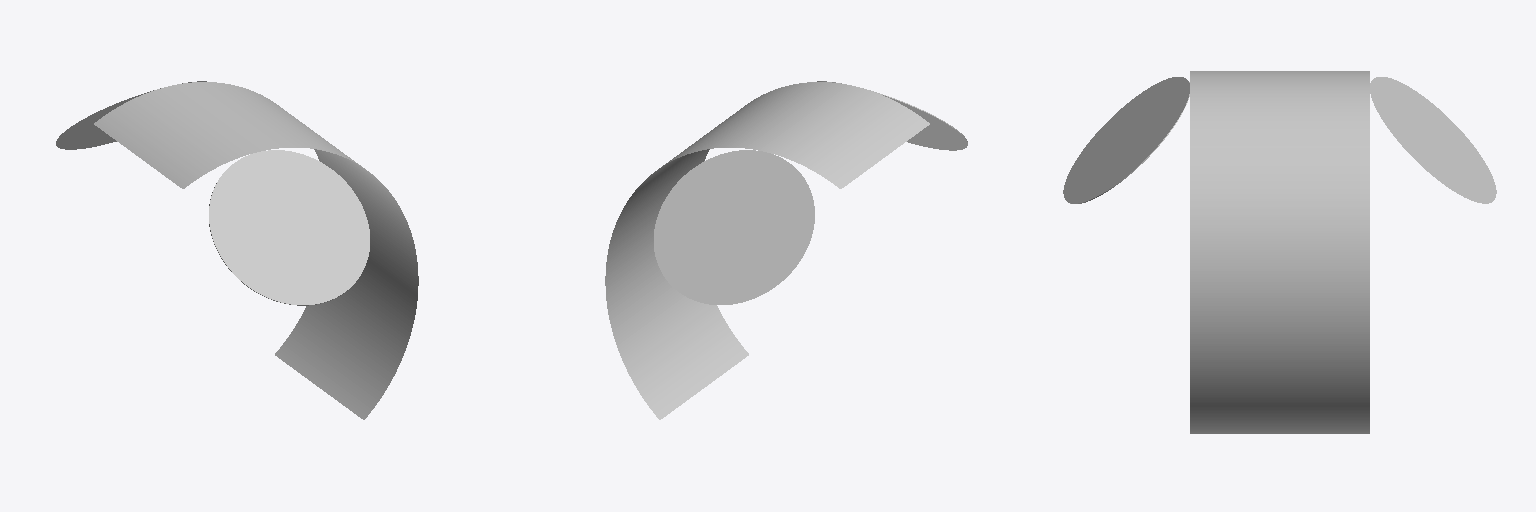
File: plane bend48.obj
3 views of the same model, side by side, from view 1: azimuth 30°, elevation 25°; view 2: azimuth 150°, elevation 25°; view 3: azimuth 270°, elevation 25° (orthographic).
Parts seen in each view (by area): view 1: Plane, Circle, Circle.001; view 2: Plane, Circle.001, Circle; view 3: Plane, Circle, Circle.001.
Boxes of the visible parts, box(x1,y1,x2,y2) form: Plane: box(94, 82, 418, 419); Circle: box(209, 150, 369, 305); Circle.001: box(56, 81, 206, 149); Plane: box(605, 82, 929, 419); Circle.001: box(654, 150, 814, 304); Circle: box(817, 81, 967, 150); Plane: box(1190, 71, 1369, 433); Circle: box(1063, 77, 1189, 203); Circle.001: box(1370, 77, 1496, 203).
Size of the model in its own units: 3.03 by 3.62 by 4.83.